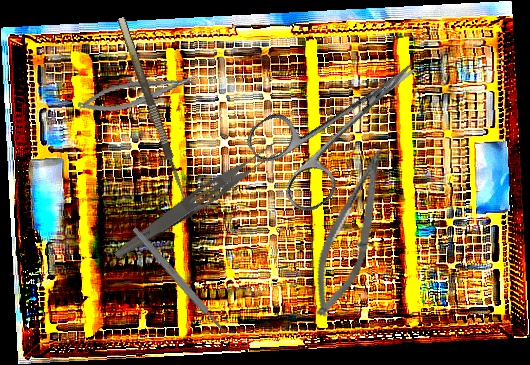Dressing Forceps: (111, 136, 285, 268)
Hook Surgical: (117, 12, 207, 226)
Iris Scissors: (241, 28, 447, 219)
Micro Scissor: (302, 139, 397, 325)
Needle Holder: (75, 69, 202, 118)
Scalpel Handle: (131, 225, 225, 333)
